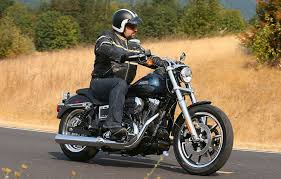helmet: (111, 6, 145, 43)
